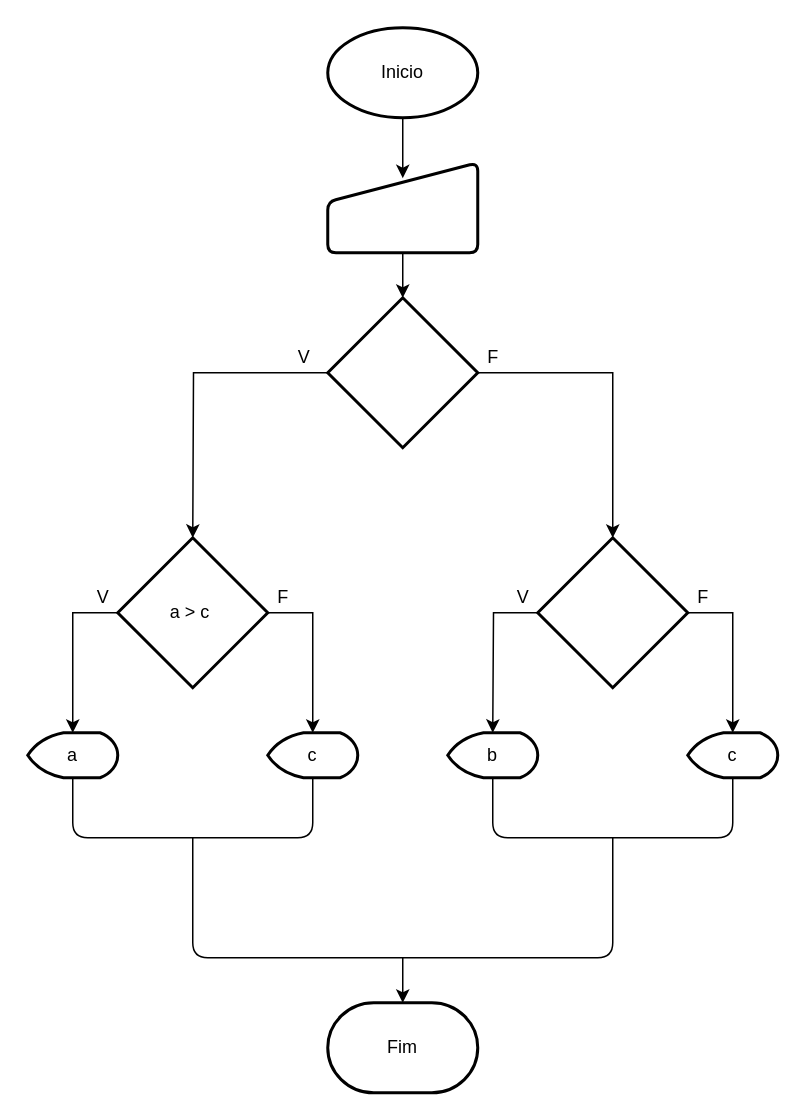
This 804x1119 diagram has some shape labels left out. Here are the shapes that lost their labels. From the top down, the centre of each, then its label:
point (402, 207): a, b, c
point (402, 372): a > b
point (612, 612): b > c
